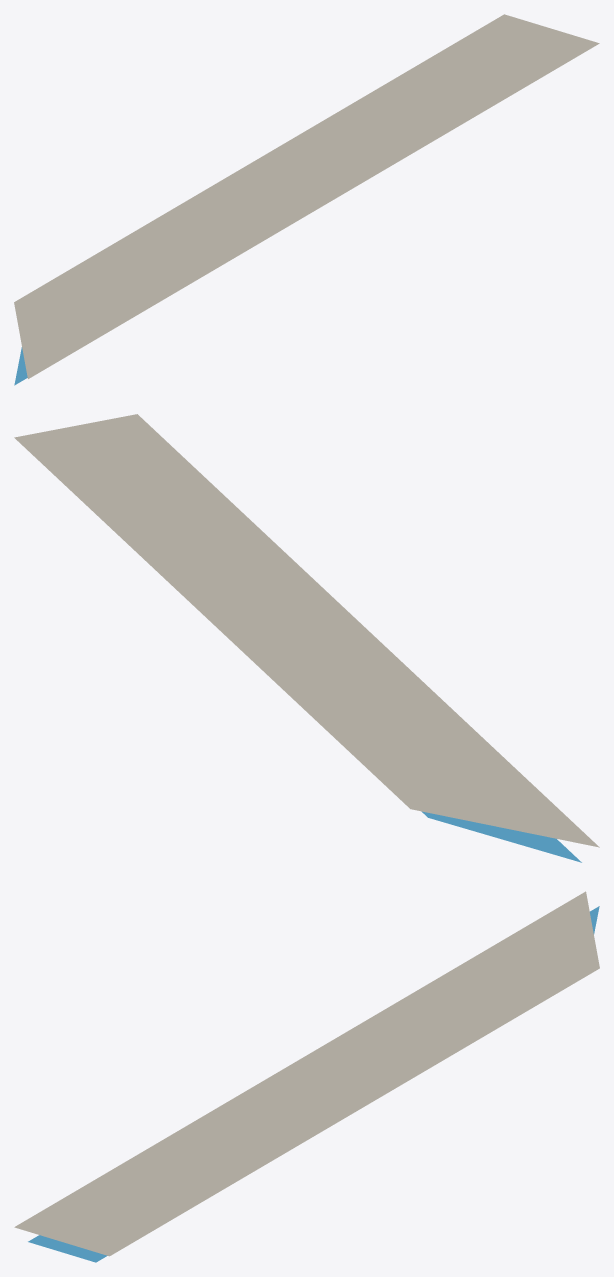
3 views of the same model, one above another, from view 1: azimuth 90°, elevation 25°; view 2: azimuth 150°, elevation 25°; view 3: azimuth 270°, elevation 25° (orthographic). The views are drawn at different scales.
Parts seen in each view (by area): view 1: estructura_terreno; view 2: estructura_terreno, estructura_agua; view 3: estructura_terreno, estructura_agua.
Part boxes in pixels (bbox=[...]): estructura_terreno: bbox=[14, 14, 599, 378]; estructura_terreno: bbox=[14, 414, 599, 847]; estructura_agua: bbox=[421, 811, 581, 862]; estructura_terreno: bbox=[14, 891, 599, 1256]; estructura_agua: bbox=[28, 906, 599, 1262].
Size of the model in its own units: 30.78 by 0.41 by 20.88.
